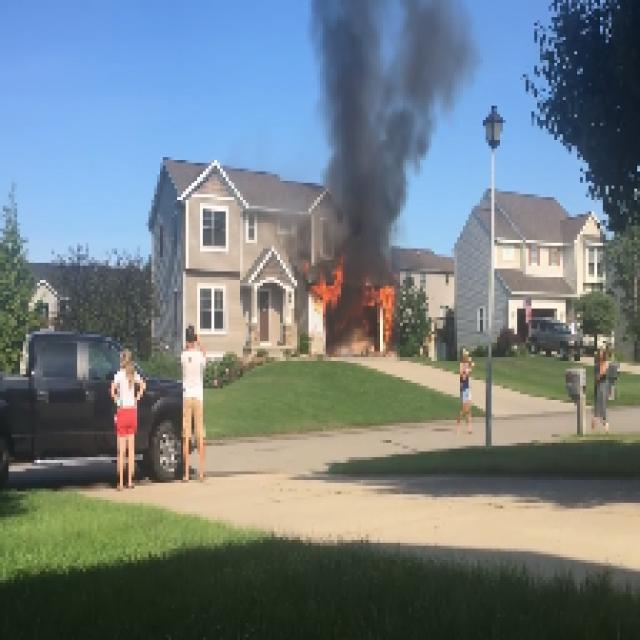Fire: (311, 260, 346, 309), (372, 280, 397, 329)
Smoke: (317, 2, 483, 248)
